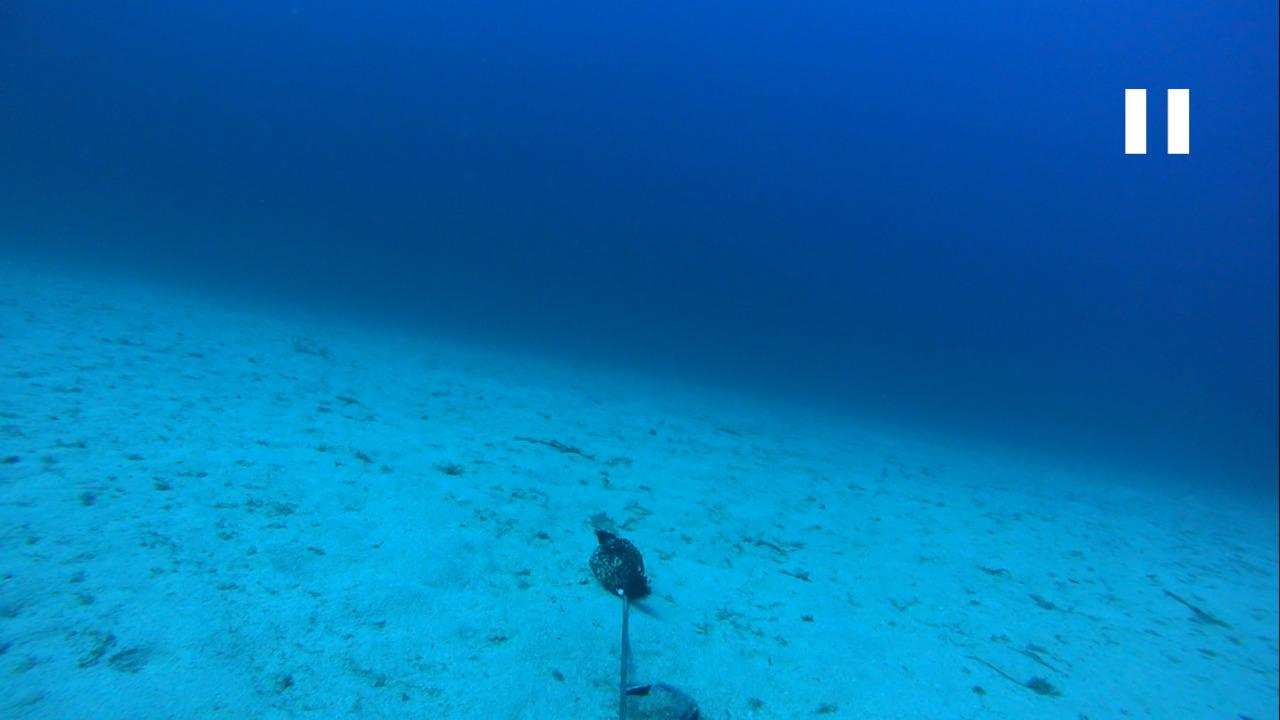dactylopterus: (264, 323, 342, 358)
